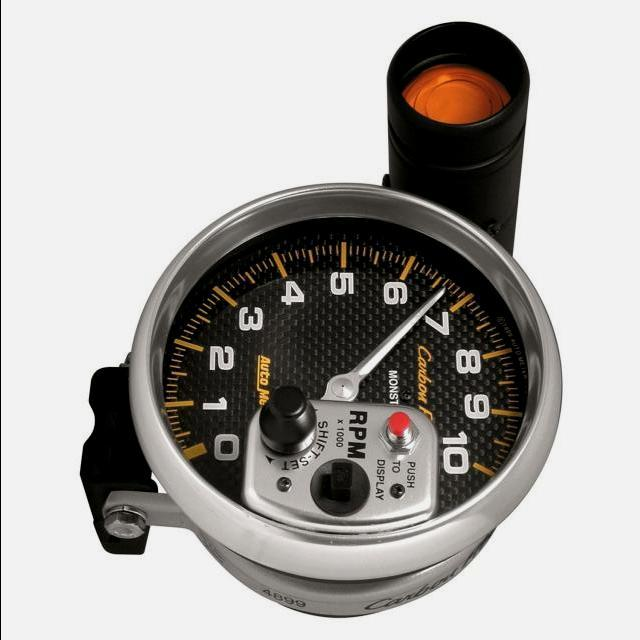Needle_Tip: (409, 278, 451, 327)
Needle_base: (307, 348, 379, 423)
max_value: (425, 418, 480, 491)
min_value: (191, 415, 242, 470)
